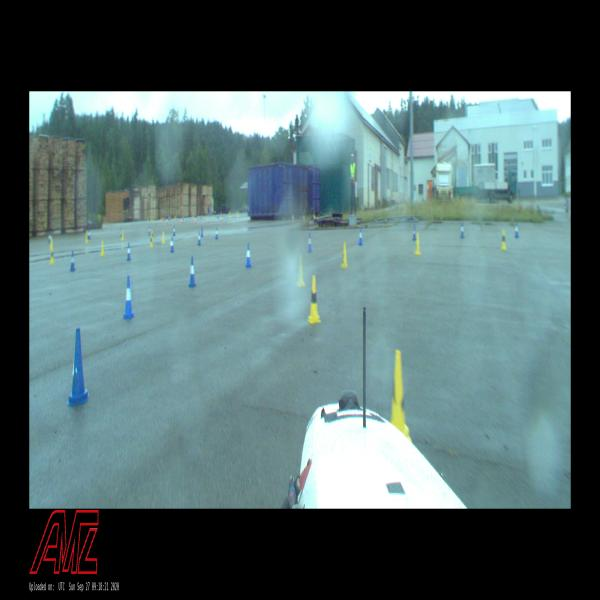blue_cone: (67, 328, 89, 404), (122, 276, 136, 318), (188, 256, 196, 287), (245, 242, 252, 268), (70, 250, 76, 272), (126, 243, 131, 260), (358, 228, 363, 245), (308, 233, 312, 252), (460, 222, 464, 238), (170, 237, 174, 252), (514, 223, 518, 237), (413, 225, 416, 240), (198, 232, 201, 245), (215, 228, 218, 238), (148, 226, 151, 236), (88, 230, 91, 238), (201, 226, 203, 237), (173, 226, 175, 236), (120, 227, 122, 237), (49, 232, 50, 242)
yellow_cone: (391, 351, 412, 441), (308, 276, 321, 323), (296, 256, 305, 286), (341, 242, 348, 268), (501, 229, 507, 250), (415, 233, 421, 254), (50, 246, 54, 264), (101, 240, 105, 256), (50, 237, 53, 249), (162, 232, 165, 243), (150, 235, 153, 246), (121, 230, 124, 240), (85, 232, 88, 242), (152, 231, 153, 242)
